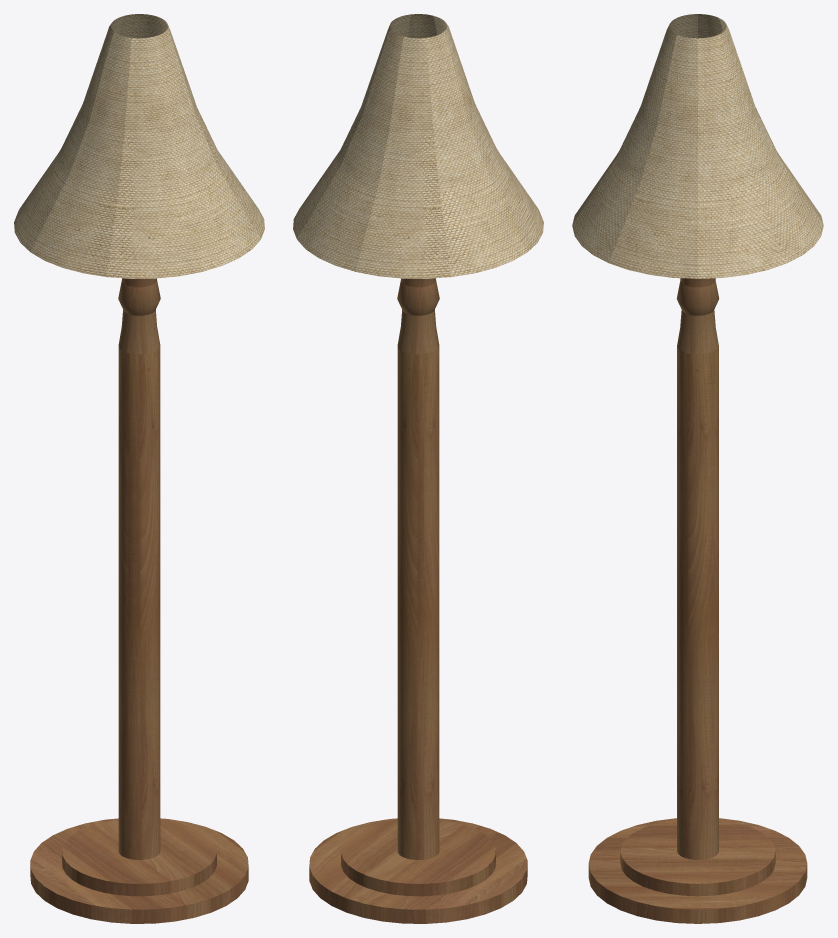
Rendered from LAmpi.obj.
The picture shows the model from 3 angles, left to right: view 1: azimuth 30°, elevation 25°; view 2: azimuth 150°, elevation 25°; view 3: azimuth 270°, elevation 25°; orthographic projection.
Parts seen in each view (by area): view 1: Cube.001; view 2: Cube.001; view 3: Cube.001.
Boxes of the visible parts, left/top/right/bottom form: Cube.001: left=14, top=14, right=264, bottom=923; Cube.001: left=293, top=14, right=543, bottom=923; Cube.001: left=572, top=14, right=823, bottom=923.
Bounding box in the file's own units: 0.6325 × 2.36 × 0.6325.
